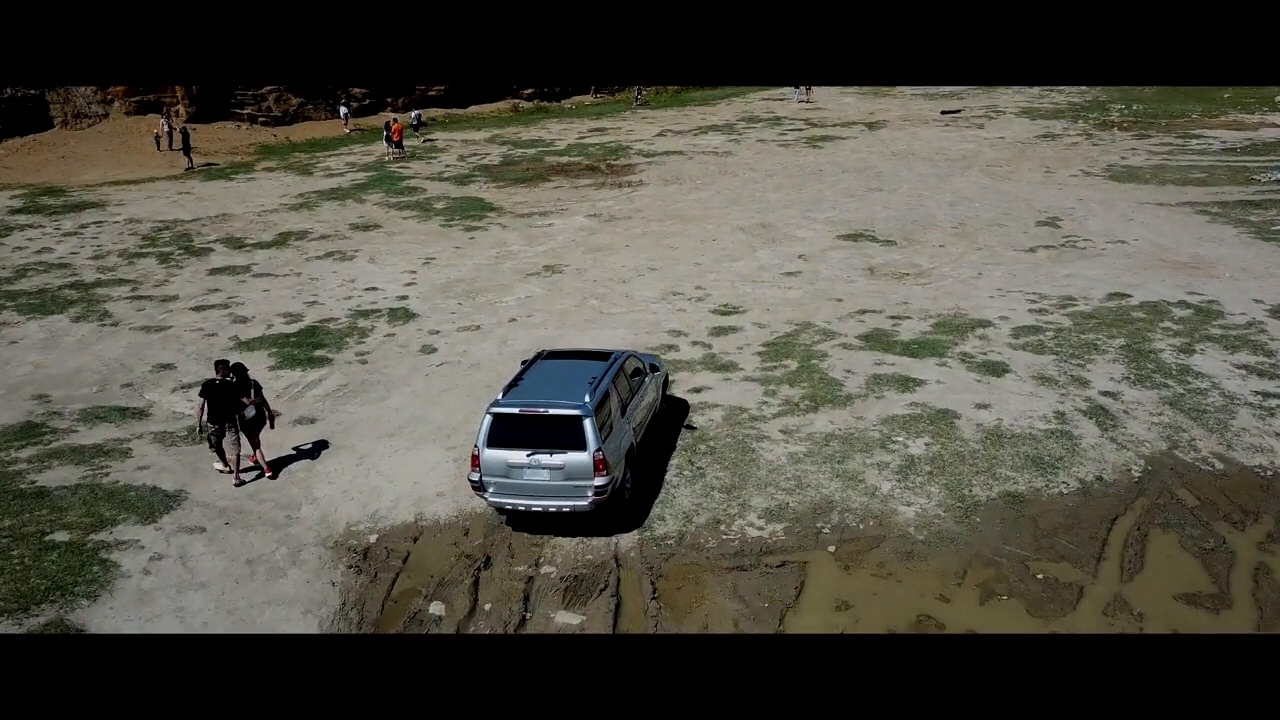araba: (468, 337, 673, 525)
insan: (230, 359, 278, 485), (194, 357, 239, 472), (179, 127, 198, 172), (392, 115, 411, 159), (382, 118, 400, 159), (409, 106, 429, 142), (161, 114, 177, 151), (338, 99, 354, 134), (150, 128, 164, 151)
